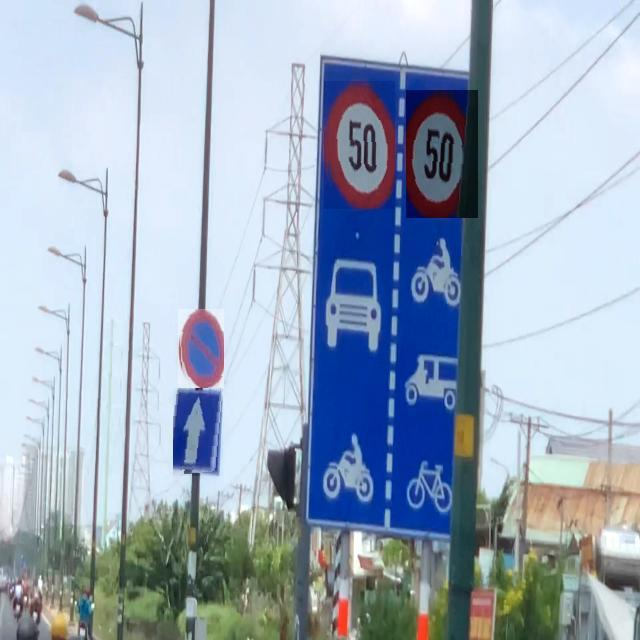P-127: (406, 90, 478, 218), (324, 81, 395, 209)
P-131a: (178, 309, 224, 389)
R-407a: (173, 388, 223, 476)
